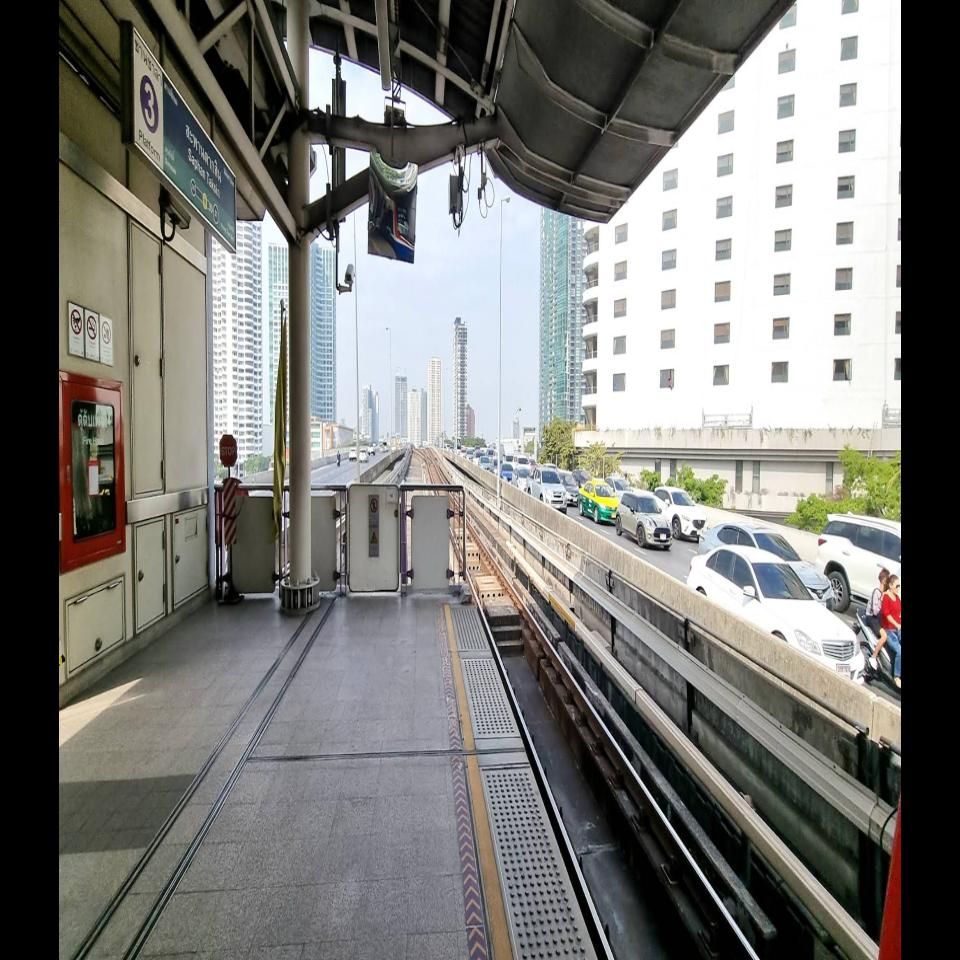Saphan Taksin: (186, 100, 222, 236)
